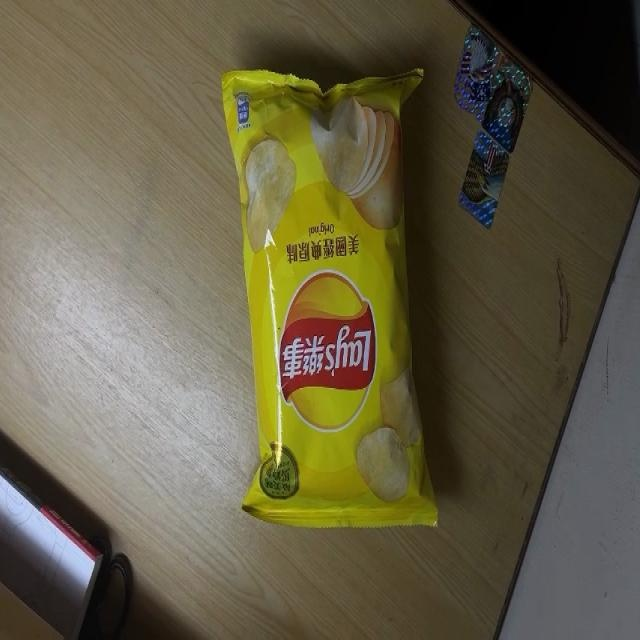Lay-s-original: (220, 62, 441, 532)
